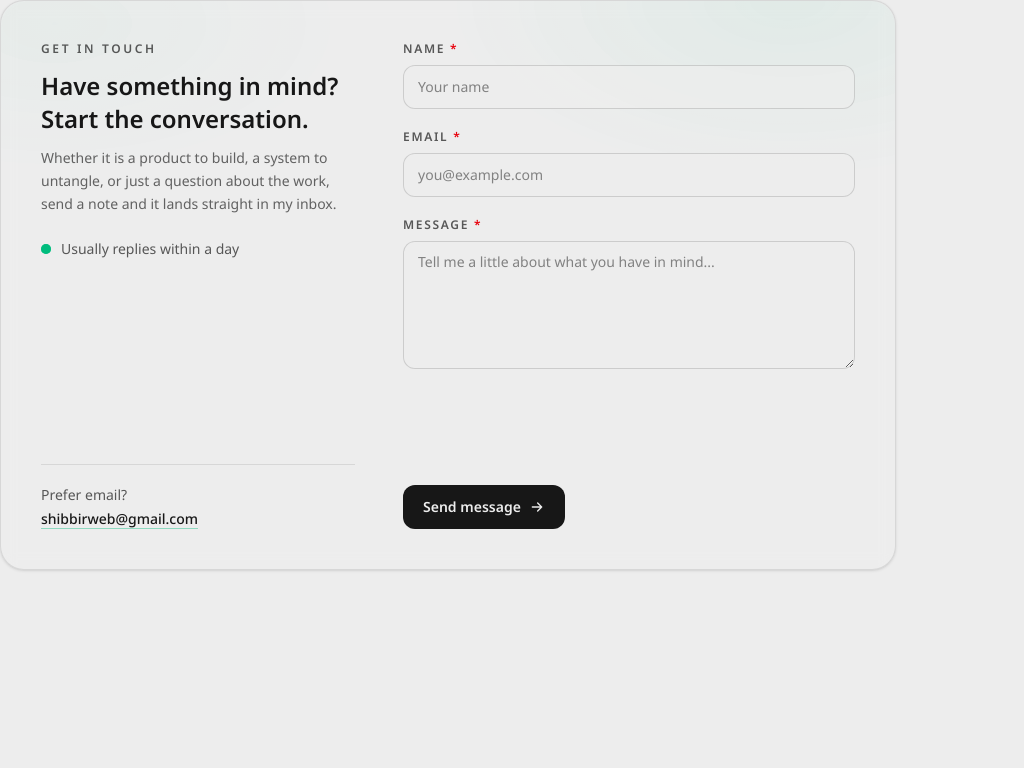
Test: ContactForm › shows the provider error in an alert and keeps the form
Type "Ada" into the field labelled "Name *" at (629, 87), box x1=403 y1=65 x2=855 y2=109
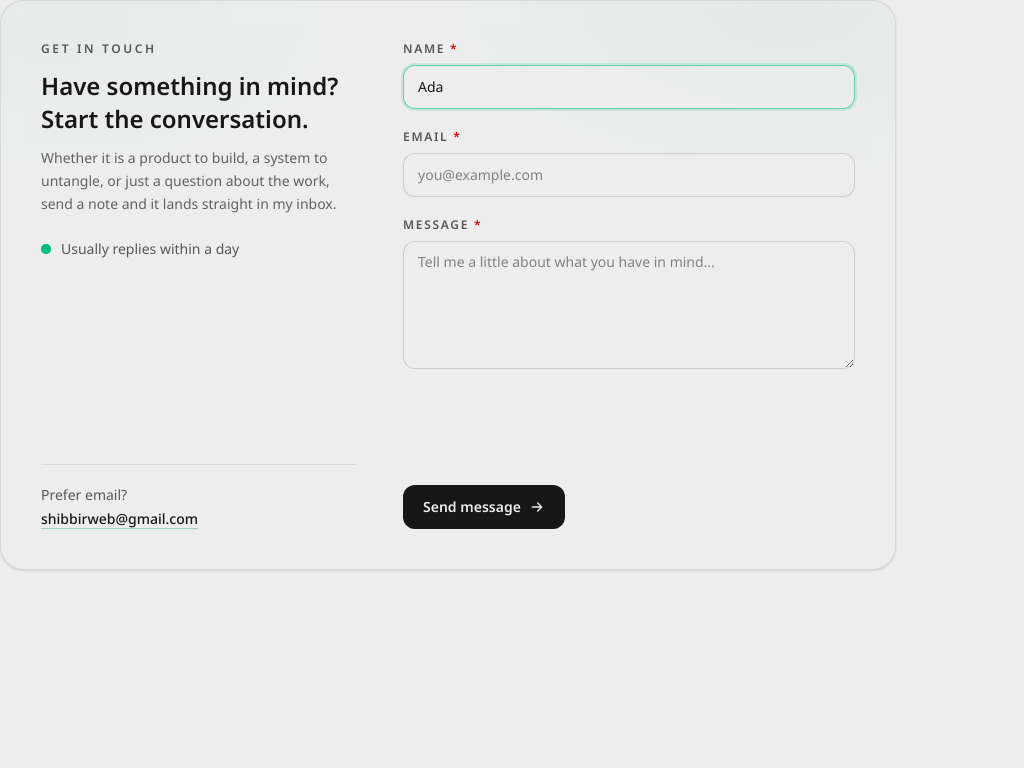
Type "ada@example.com" into the field labelled "Email *" at (629, 175), box x1=403 y1=153 x2=855 y2=197
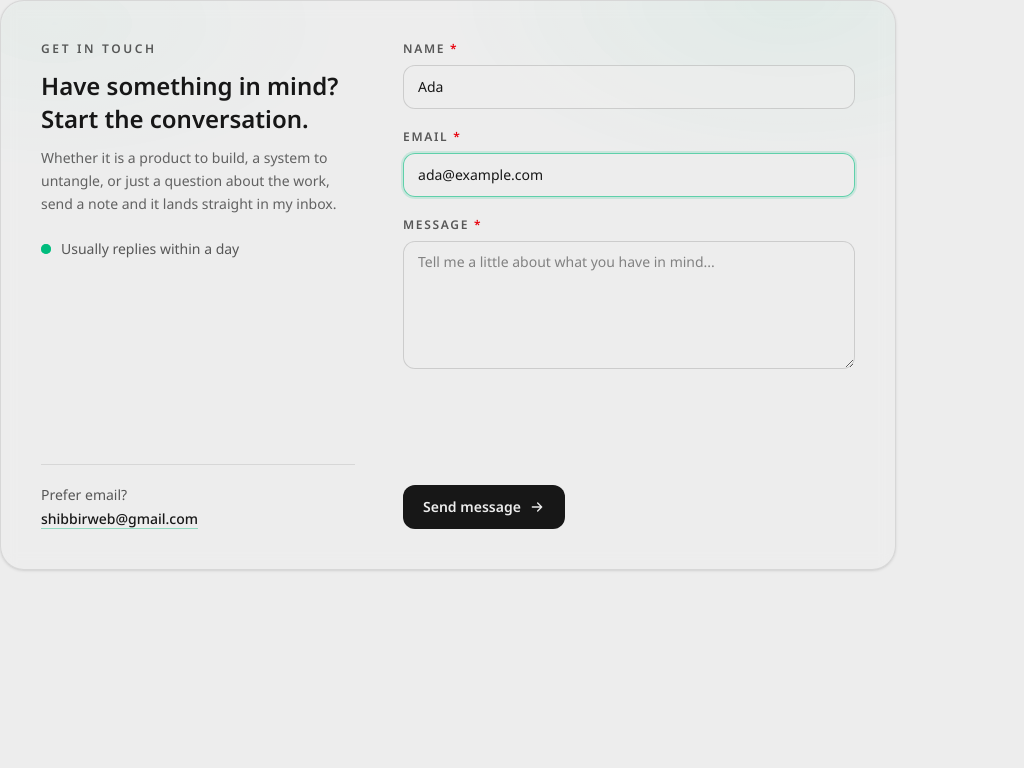
Type "Hello there" into the text box labelled "Message *" at (629, 305), box x1=403 y1=241 x2=855 y2=369
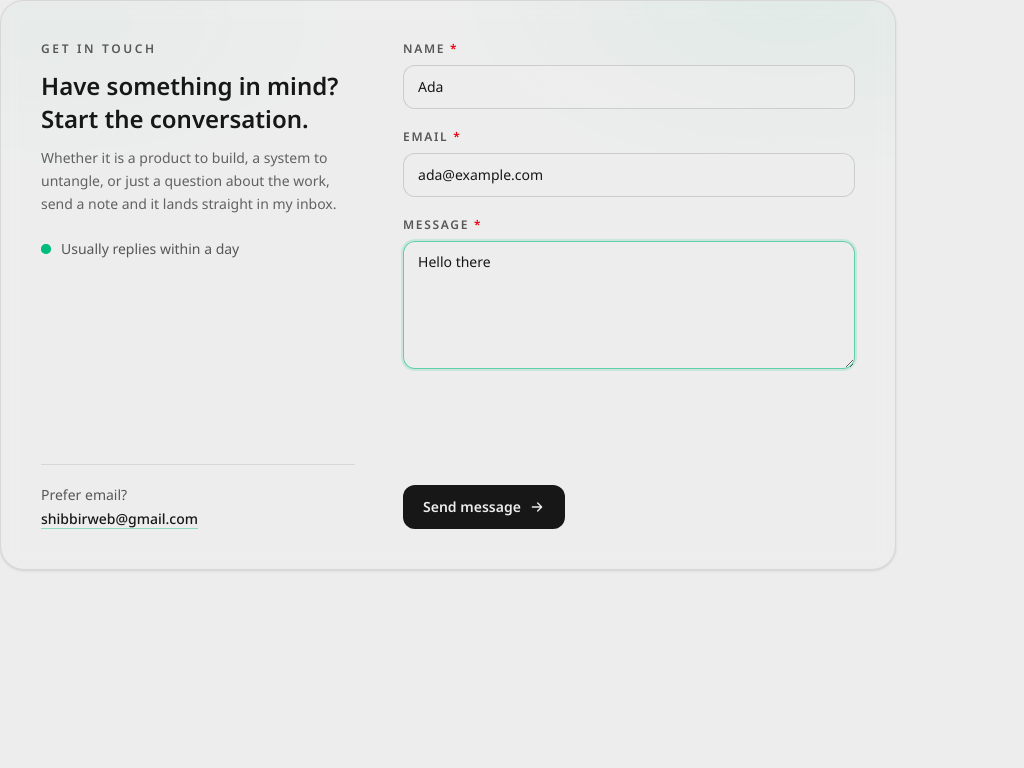
Click the button "Send message" at (484, 507), box x1=403 y1=485 x2=565 y2=529
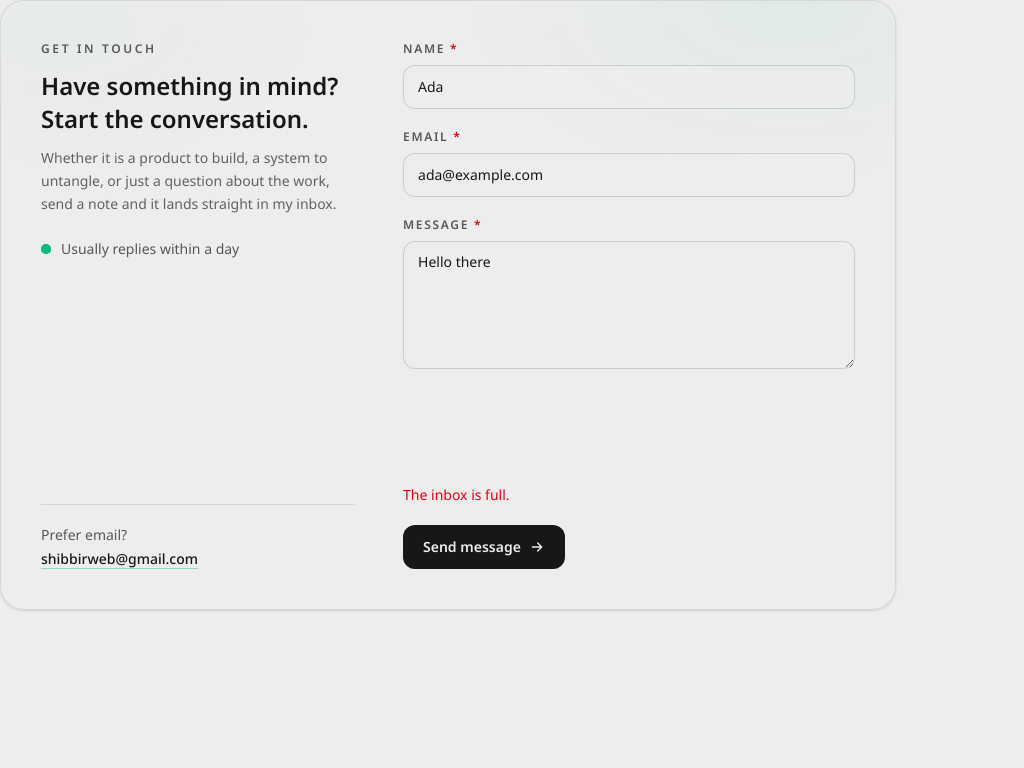
expect the message reads "The inbox is full.": met, box x1=403 y1=485 x2=510 y2=504
